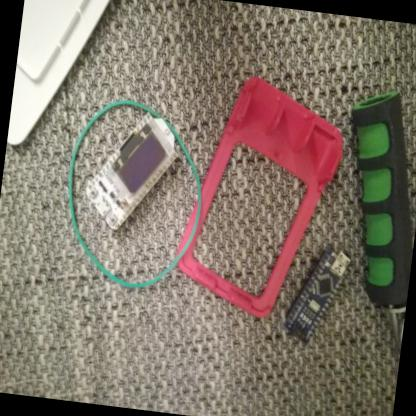Arduino_Nano: (281, 243, 356, 351)
Heltec_ESP32_Lora: (80, 105, 183, 242)
